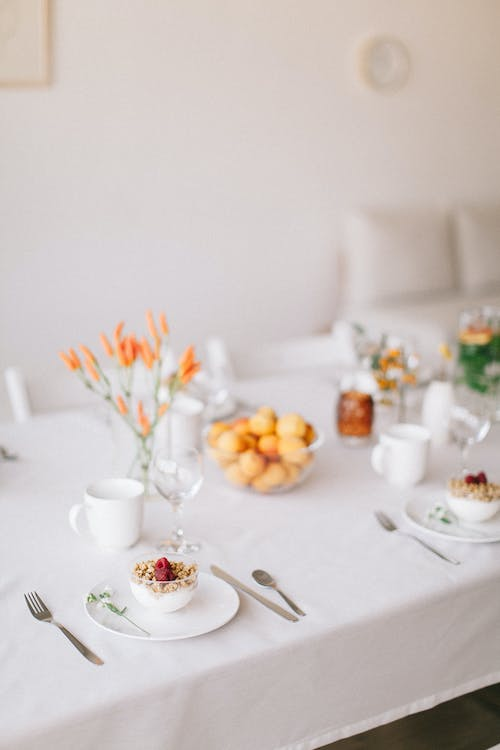knife: (208, 563, 301, 626)
